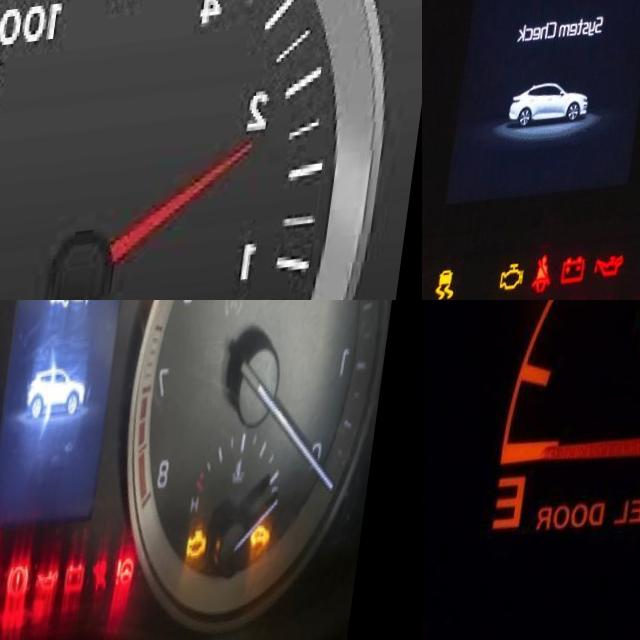Seat Belt: (0, 566, 17, 613)
